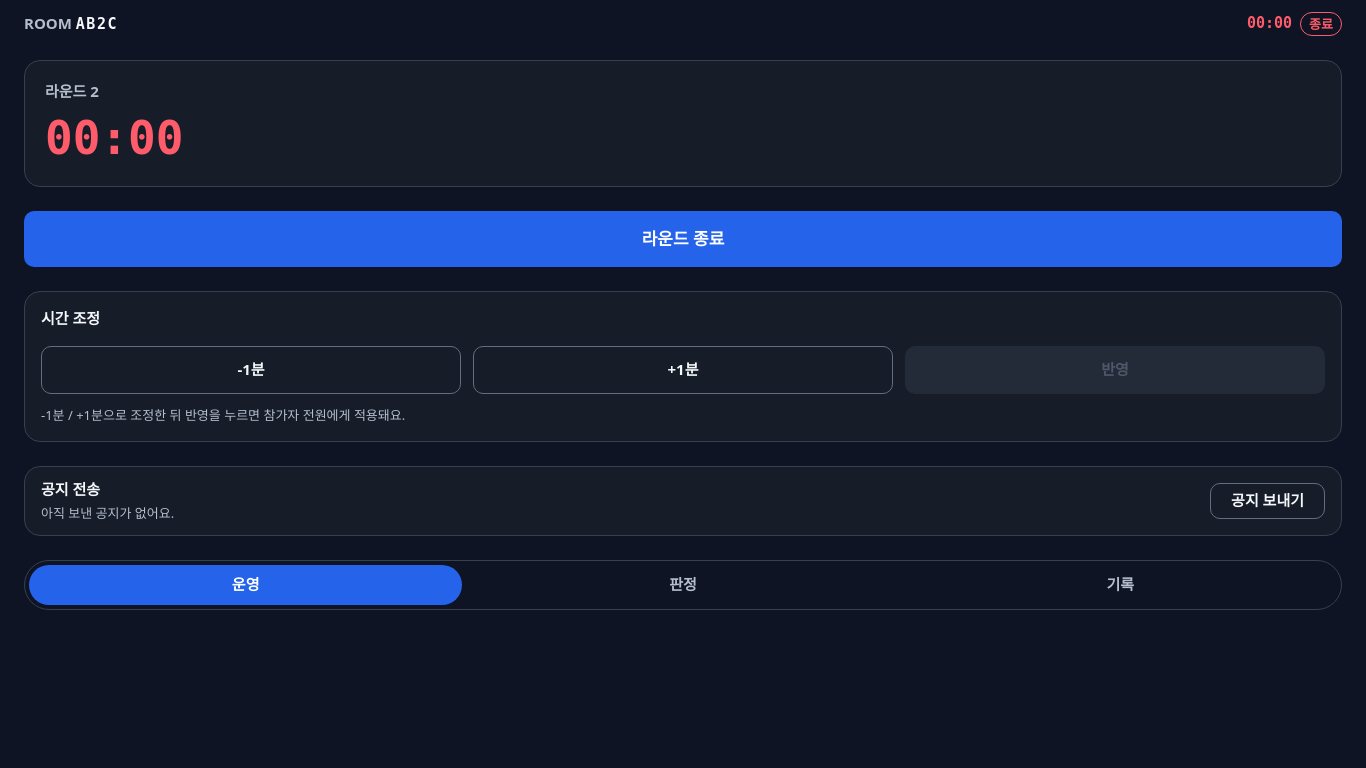
Test: RoundOpsPage › 라운드 종료 › 큐 연결이 끊긴 상태에서는 건수를 몰라도 확인을 받는다
Click the button "라운드 종료": (683,239) x1=24 y1=211 x2=1342 y2=267
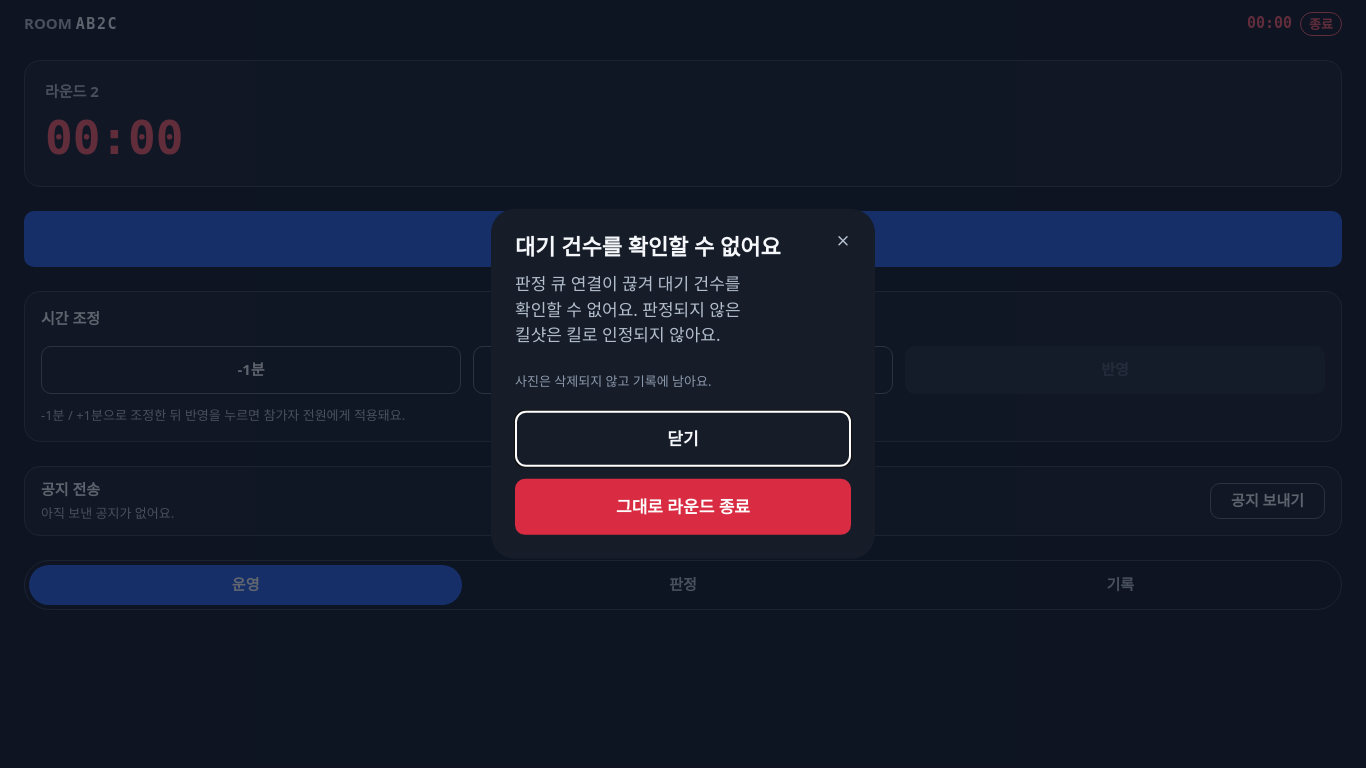
Check: the text "대기 건수를 확인할 수 없어요" is shown, box x1=515 y1=231 x2=781 y2=261
